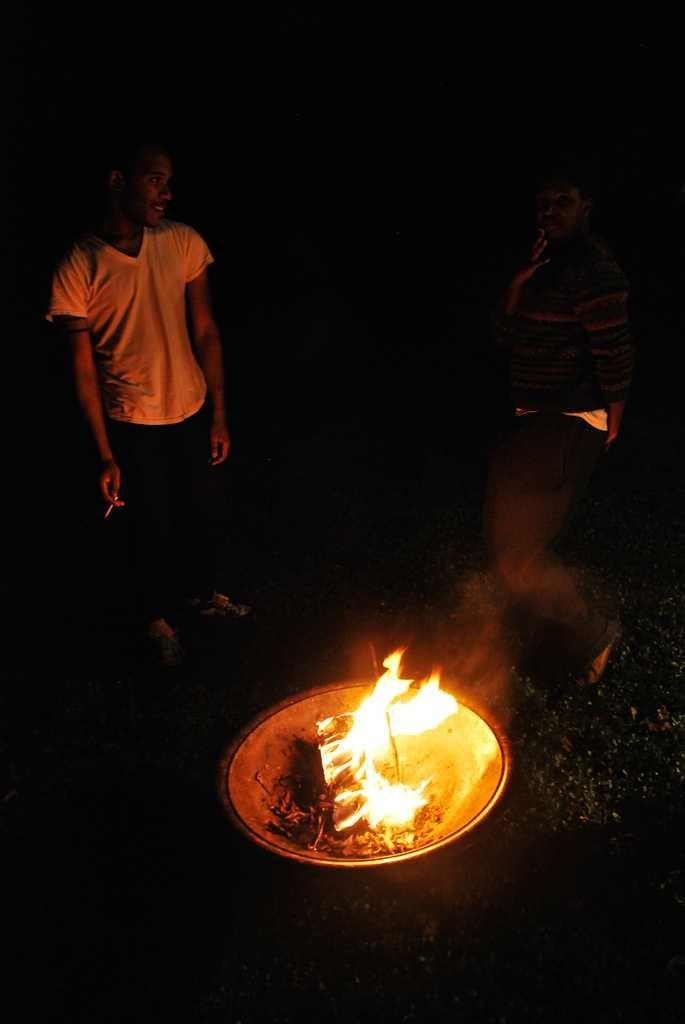fire: (360, 672, 423, 745), (363, 785, 413, 823)
